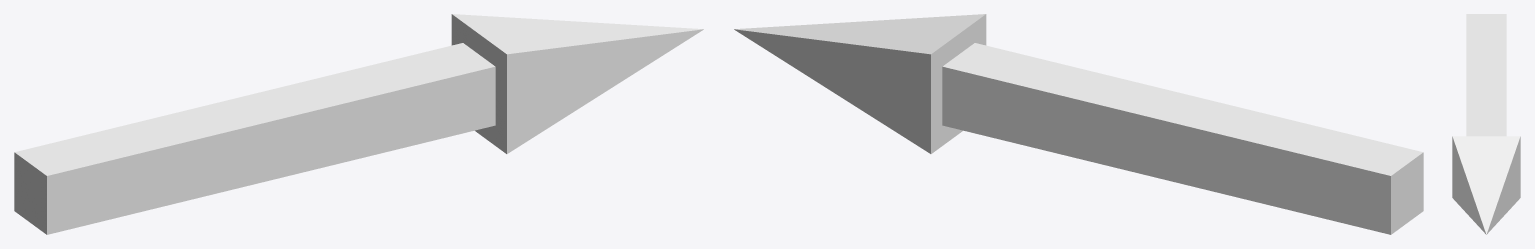
File: arrow.obj
The picture shows the model from 3 angles, left to right: view 1: azimuth 30°, elevation 25°; view 2: azimuth 150°, elevation 25°; view 3: azimuth 270°, elevation 25°; orthographic projection. The views are drawn at different scales.
Visible parts, largest first — view 1: Cube_Cube.001, Cone; view 2: Cube_Cube.001, Cone; view 3: Cone, Cube_Cube.001.
Boxes of the visible parts, x1,y1,x2,y2 form: Cube_Cube.001: (14,43,495,234); Cone: (451,14,703,153); Cube_Cube.001: (942,43,1423,234); Cone: (734,14,986,153); Cone: (1452,136,1520,234); Cube_Cube.001: (1466,14,1506,136).
Size of the model in its own units: 2.99 by 0.4243 by 0.4243.
